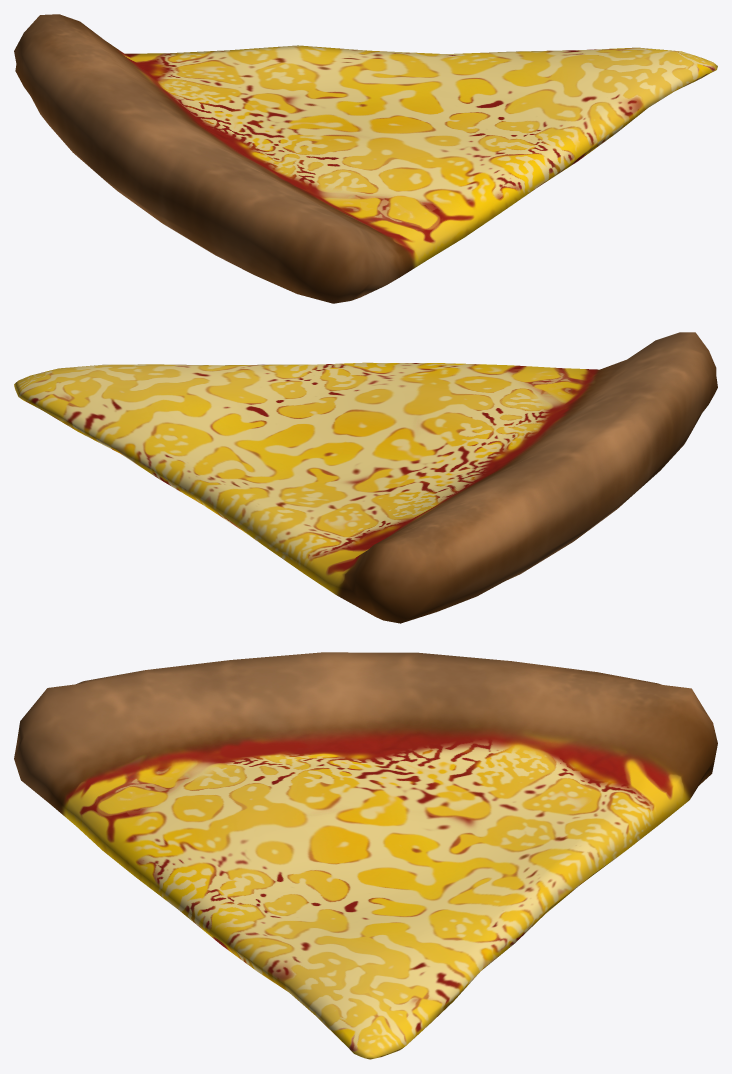
The model's file is Pizza.FBX.
The picture shows the model from 3 angles, top to bottom: view 1: azimuth 30°, elevation 25°; view 2: azimuth 150°, elevation 25°; view 3: azimuth 270°, elevation 25°; orthographic projection. The views are drawn at different scales.
Visible parts, largest first — view 1: Group50116; view 2: Group50116; view 3: Group50116.
Boxes of the visible parts, left/top/right/bottom form: Group50116: left=14, top=14, right=717, bottom=303; Group50116: left=14, top=332, right=717, bottom=623; Group50116: left=14, top=652, right=717, bottom=1059.
Bounding box in the file's own units: 925 × 137 × 850.
1 material, 1 textured.
